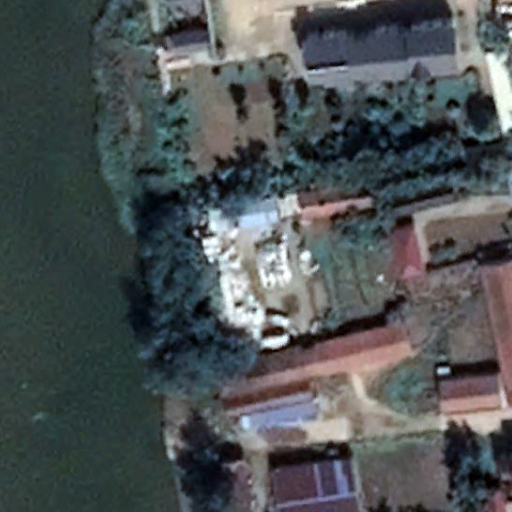msw: (202, 232, 289, 348)
